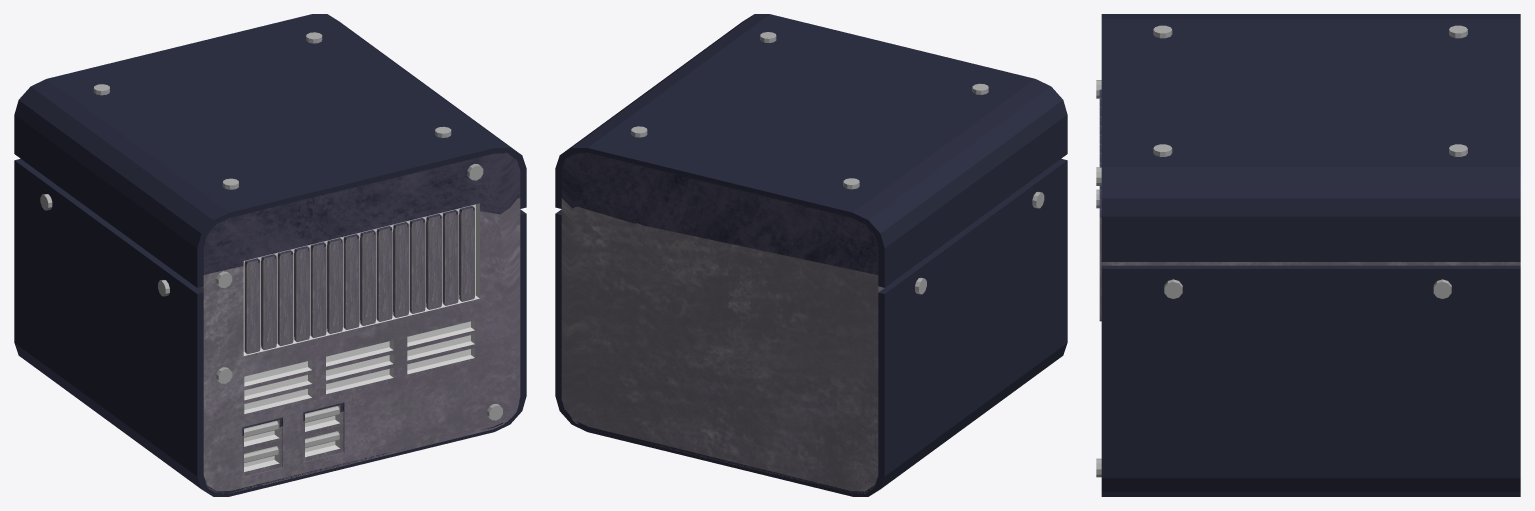
File: Caixa.fbx
3 views of the same model, side by side, from view 1: azimuth 30°, elevation 25°; view 2: azimuth 150°, elevation 25°; view 3: azimuth 270°, elevation 25° (orthographic). The views are drawn at different scales.
Visible parts, largest first — view 1: Caixa.002; view 2: Caixa.002; view 3: Caixa.002.
Part boxes in pixels (left/top/right/bottom): Caixa.002: left=14, top=14, right=526, bottom=496; Caixa.002: left=555, top=14, right=1067, bottom=496; Caixa.002: left=1096, top=14, right=1520, bottom=496.
Size of the model in its own units: 85.32 by 69.57 by 81.
Materials: 5 (2 with a texture image).
